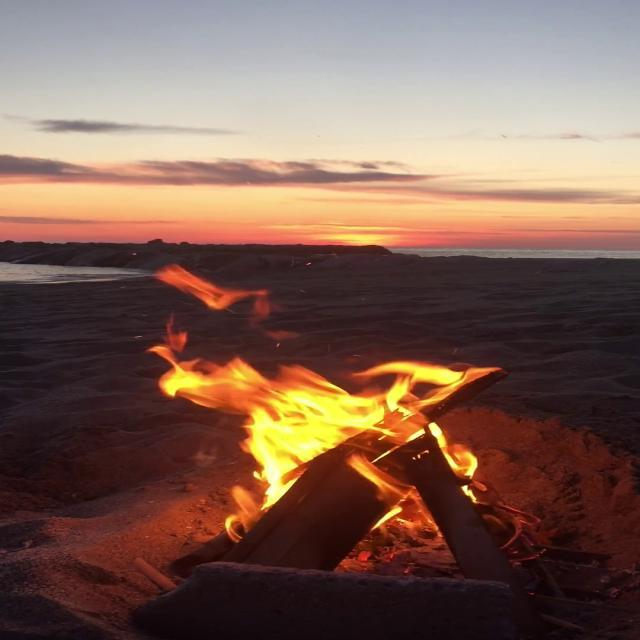Fire: (120, 344, 514, 536)
